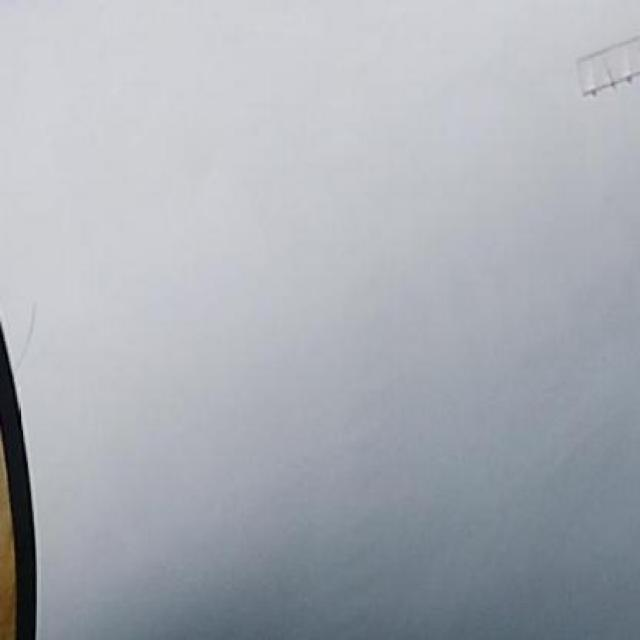Crack: (13, 300, 39, 378)
